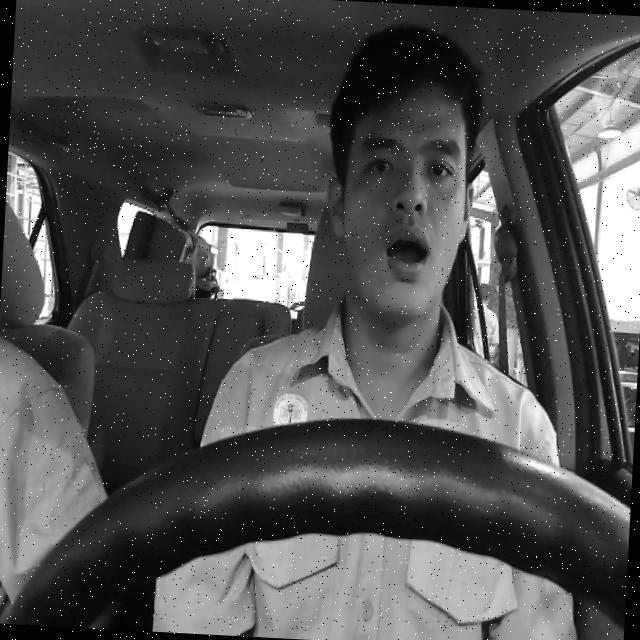yarning: (318, 80, 479, 325)
